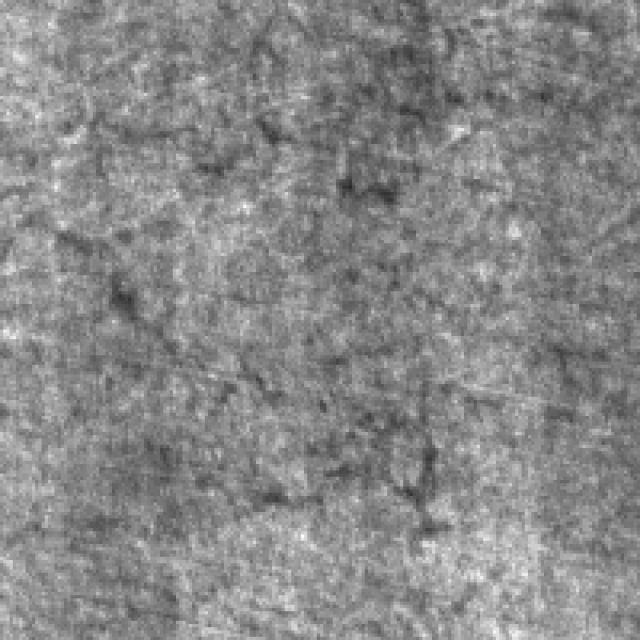crazing: (202, 333, 483, 541), (237, 0, 480, 205)
